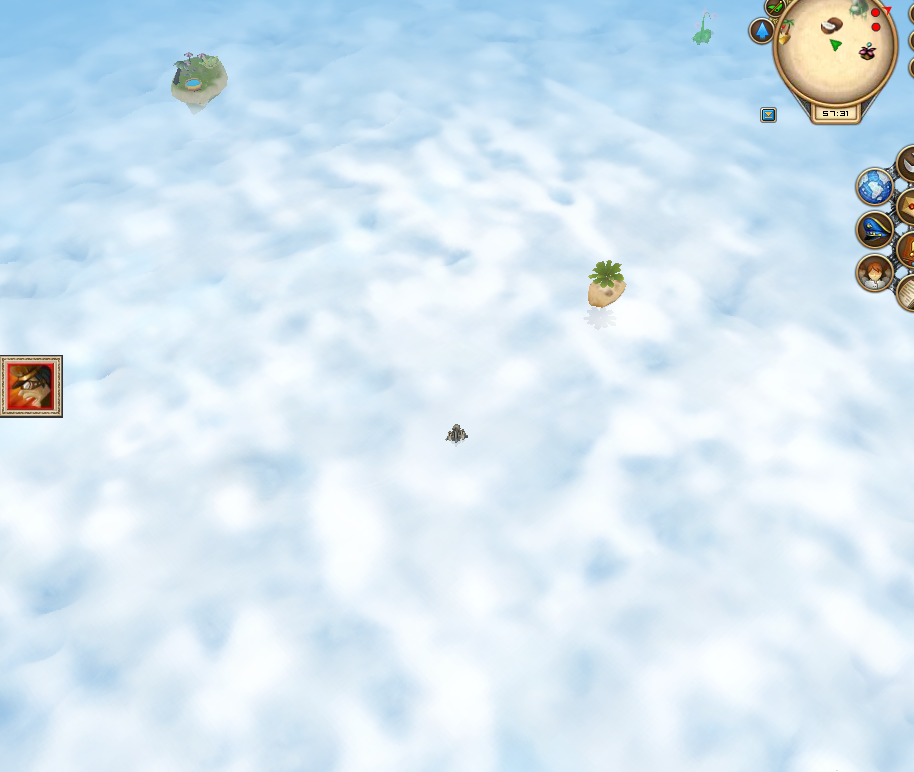dandelion-full: (689, 7, 719, 46)
palm: (580, 254, 633, 311)
